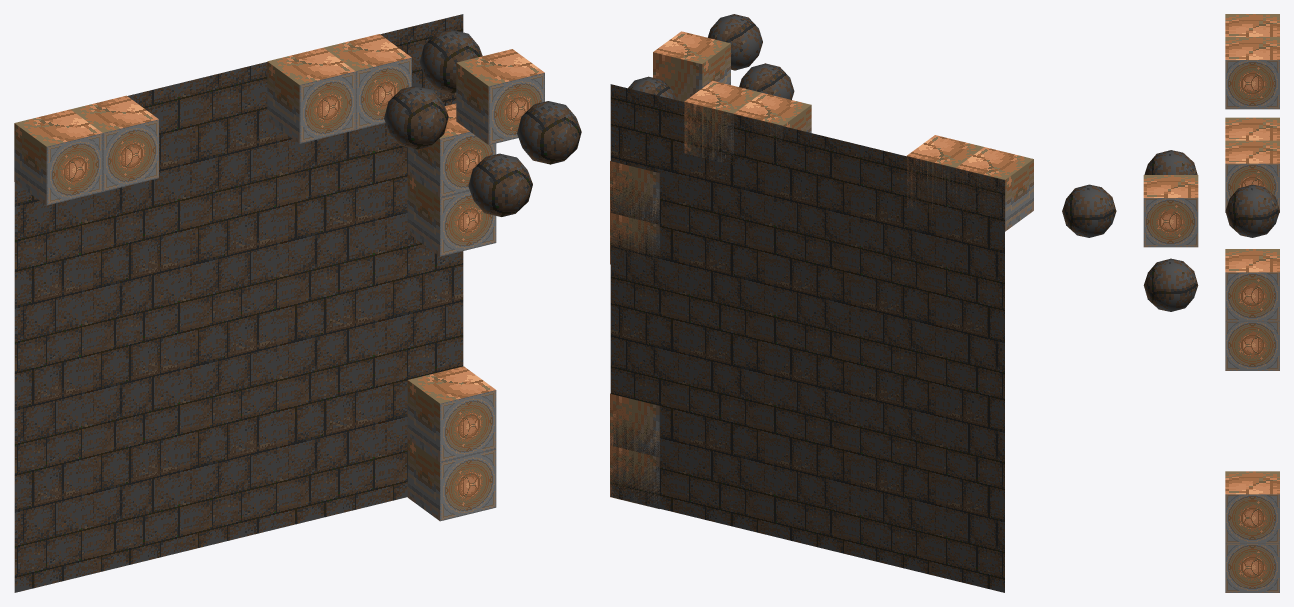
The model's file is block_a_b.fbx.
3 renders of one model, left to right at view 1: azimuth 30°, elevation 25°; view 2: azimuth 150°, elevation 25°; view 3: azimuth 270°, elevation 25°, orthographic. The views are drawn at different scales.
Visible parts, largest first — view 1: Plane, CA.005, CA.006, CA.007, CA.001, CA.004, CA.008, CA.003, CA, CA.002, Icosphere.001, Icosphere.002 (+2 smaller); view 2: Plane, CA.001, CA, CA.007, CA.005, CA.002, CA.008, CA.006, CA.004, Icosphere.003, CA.003, Icosphere.001 (+1 smaller); view 3: CA.001, CA.002, CA.005, CA.008, CA, CA.003, CA.004, Icosphere, Icosphere.002, Icosphere.003, CA.006, CA.007 (+1 smaller).
Part boxes in pixels (x1,y1,x2,y2): Plane: (14,14,463,592); CA.005: (407,366,496,462); CA.006: (267,47,355,143); CA.007: (14,109,102,205); CA.001: (456,49,544,144); CA.004: (407,439,496,521); CA.008: (71,95,158,191); CA.003: (407,174,496,256); CA: (324,34,411,129); CA.002: (407,103,496,197); Icosphere.001: (384,86,448,149); Icosphere.002: (468,153,532,216); Plane: (610,84,1004,592); CA.001: (653,31,730,101); CA: (684,81,761,164); CA.007: (956,147,1033,231); CA.005: (610,393,659,456); CA.002: (610,161,659,224); CA.008: (907,135,983,217); CA.006: (733,93,811,153); CA.004: (610,445,659,508); Icosphere.003: (708,14,762,70); CA.003: (610,213,659,264); Icosphere.001: (739,63,794,99); CA.001: (1143,175,1198,247); CA.002: (1225,249,1279,321); CA.005: (1225,471,1279,543); CA.008: (1225,37,1279,109); CA: (1225,140,1279,212); CA.003: (1225,321,1279,370); CA.004: (1225,543,1279,592); Icosphere: (1225,184,1279,237); Icosphere.002: (1143,258,1198,311); Icosphere.003: (1062,184,1116,237); CA.006: (1225,117,1279,140); CA.007: (1225,14,1279,36).
Bounding box in the file's own units: 80 × 80 × 40.
14 materials, 14 textured.
